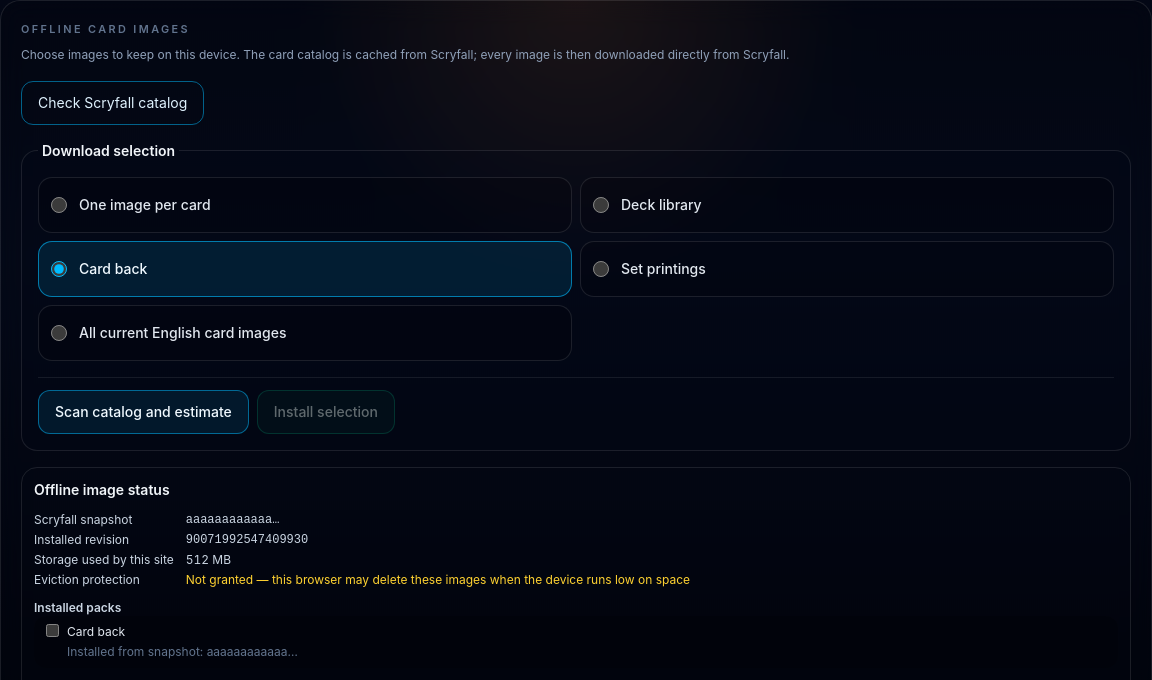
Scenario: VisualPackManager initialization › names an ungranted origin as evictable in the status panel
This screenshot has width=1152, height=680.
Expected: the heading "Offline card images" is shown, [21,22,190,36]
Expected: the text "may delete these images" is shown, [186,572,690,587]
Click the radio button labelled "One image per card" at (59, 205), box [51,197,67,213]
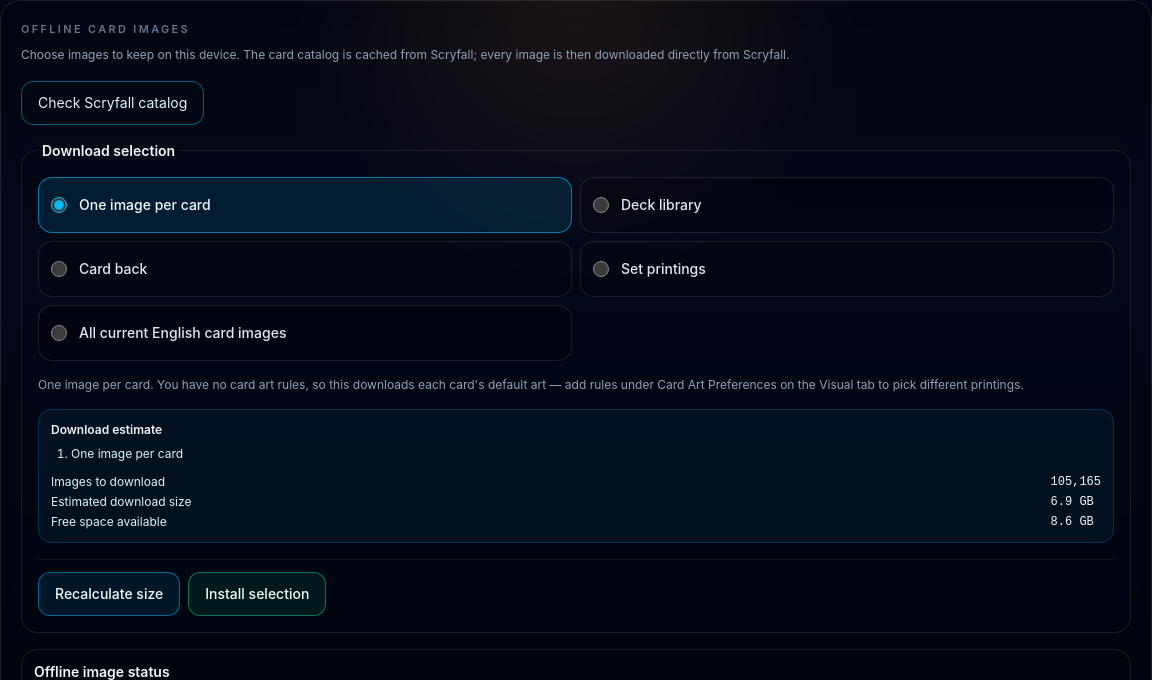
Expected: the text "Estimated download size" is shown, [51,494,192,509]
